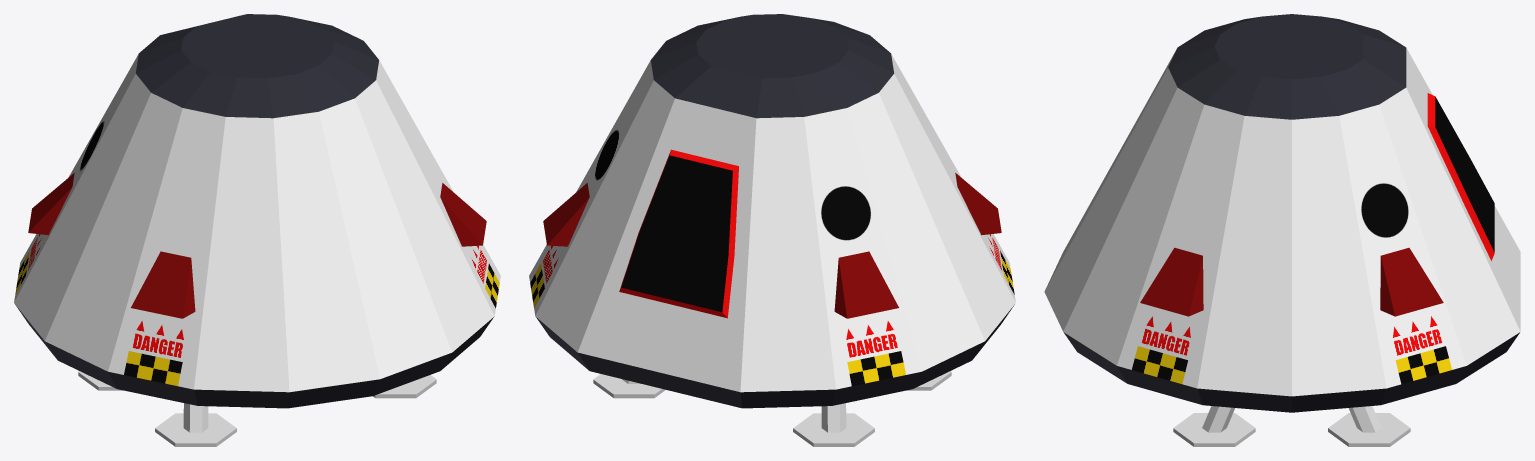
File: pod-junto.fbx
3 renders of one model, left to right at view 1: azimuth 30°, elevation 25°; view 2: azimuth 150°, elevation 25°; view 3: azimuth 270°, elevation 25°, orthographic.
Parts seen in each view (by area): view 1: Pod1; view 2: Pod1; view 3: Pod1.
Part boxes in pixels (left/top/right/bottom): Pod1: left=14, top=14, right=500, bottom=446; Pod1: left=529, top=14, right=1015, bottom=446; Pod1: left=1044, top=14, right=1520, bottom=446.
Bounding box in the file's own units: 600 × 449 × 577.
